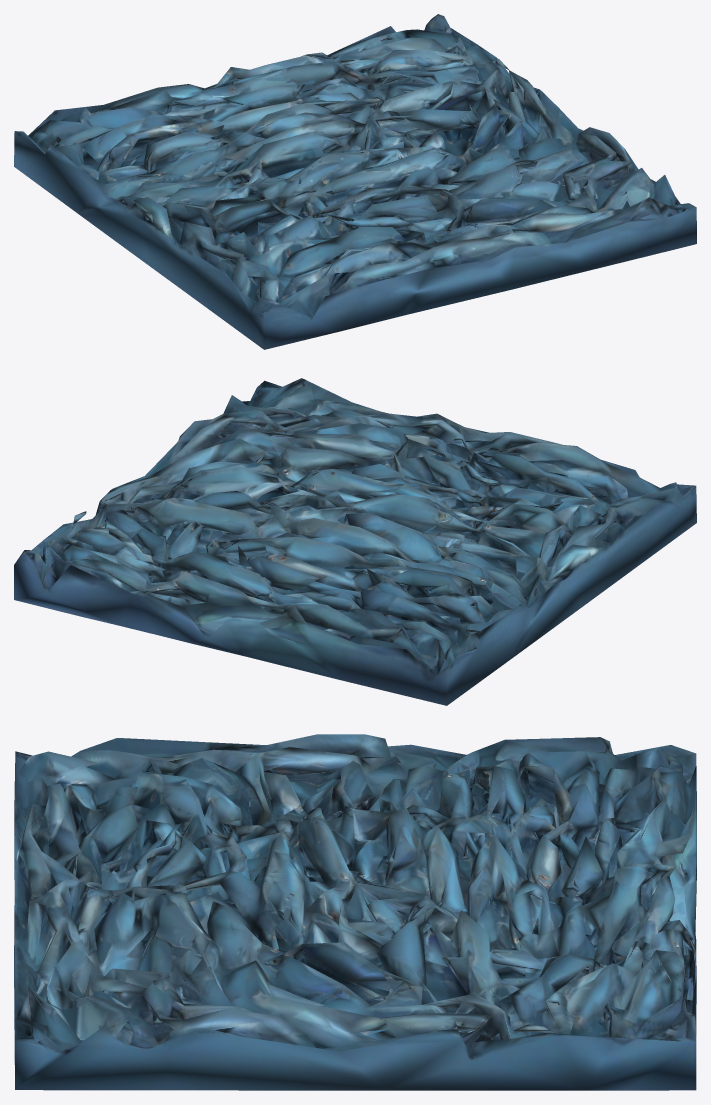
The model's file is fish_shoal.glb.
3 renders of one model, top to bottom at view 1: azimuth 30°, elevation 25°; view 2: azimuth 150°, elevation 25°; view 3: azimuth 270°, elevation 25°, orthographic. The views are drawn at different scales.
Size of the model in its own units: 2 by 0.3077 by 2.
Materials: 1 (1 with a texture image).
